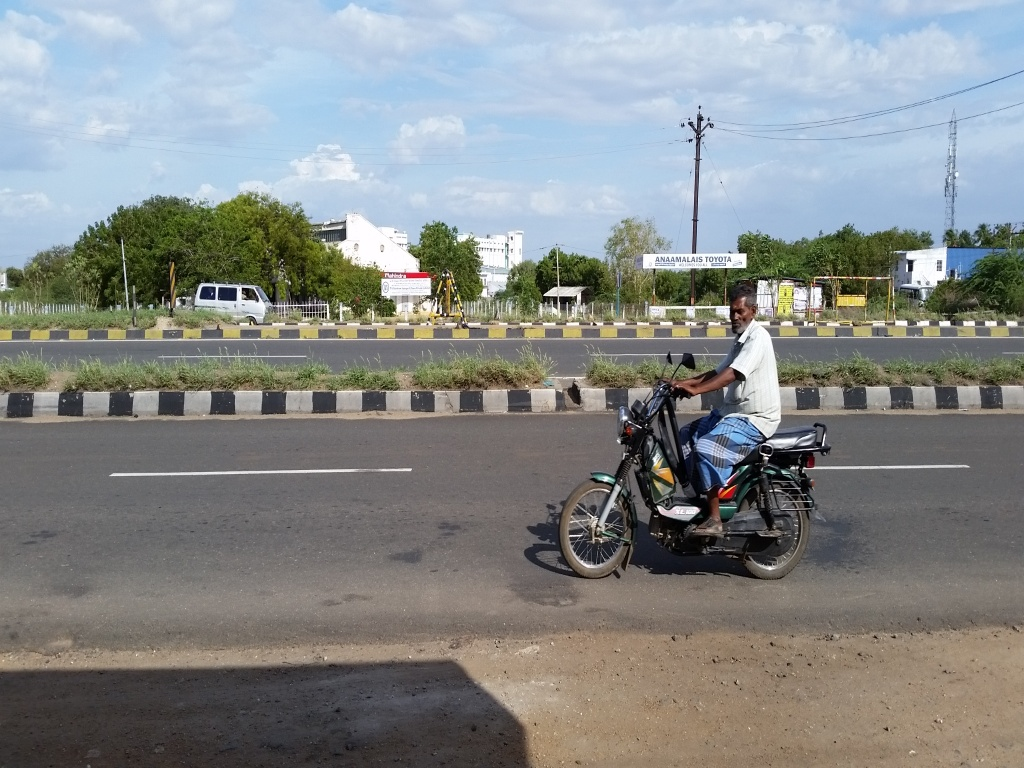biker: (546, 230, 843, 597)
nohelmet: (713, 269, 768, 347)
